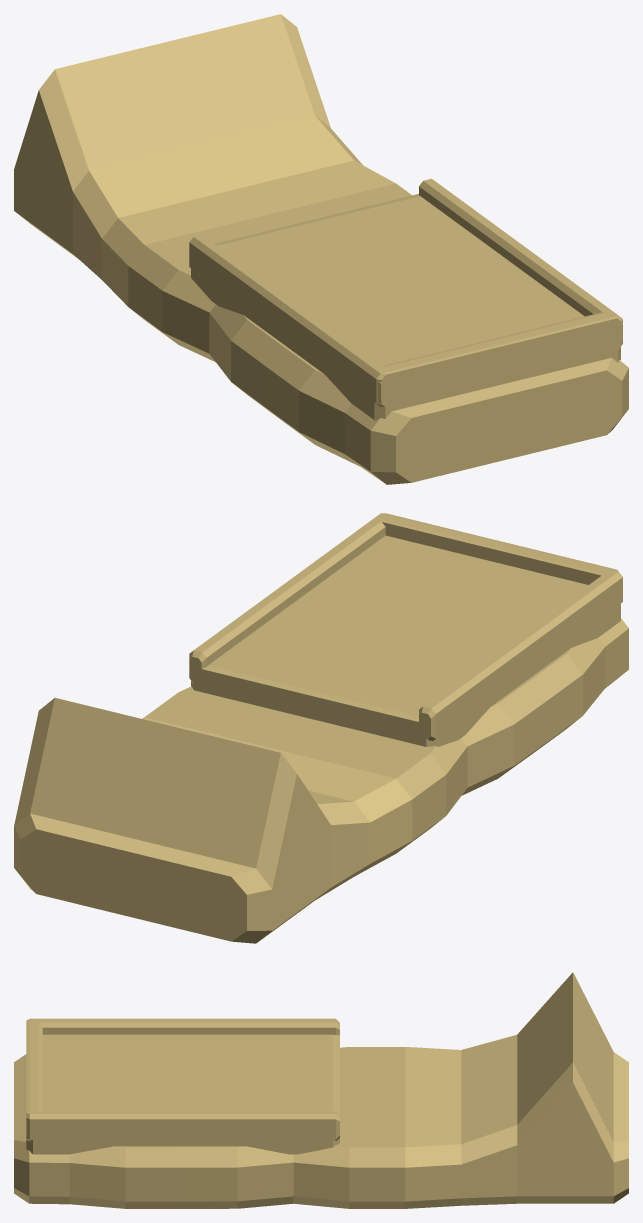
File: tallow_transport_e.glb
The picture shows the model from 3 angles, top to bottom: view 1: azimuth 30°, elevation 25°; view 2: azimuth 150°, elevation 25°; view 3: azimuth 270°, elevation 25°; orthographic projection. The views are drawn at different scales.
Parts seen in each view (by area): view 1: tallow_transport_e; view 2: tallow_transport_e; view 3: tallow_transport_e.
Boxes of the visible parts, x1=… form: tallow_transport_e: x1=14, y1=14, x2=628, y2=484; tallow_transport_e: x1=14, y1=513, x2=628, y2=943; tallow_transport_e: x1=14, y1=972, x2=628, y2=1208.
Bounding box in the file's own units: 3.8 × 2.21 × 8.7.
